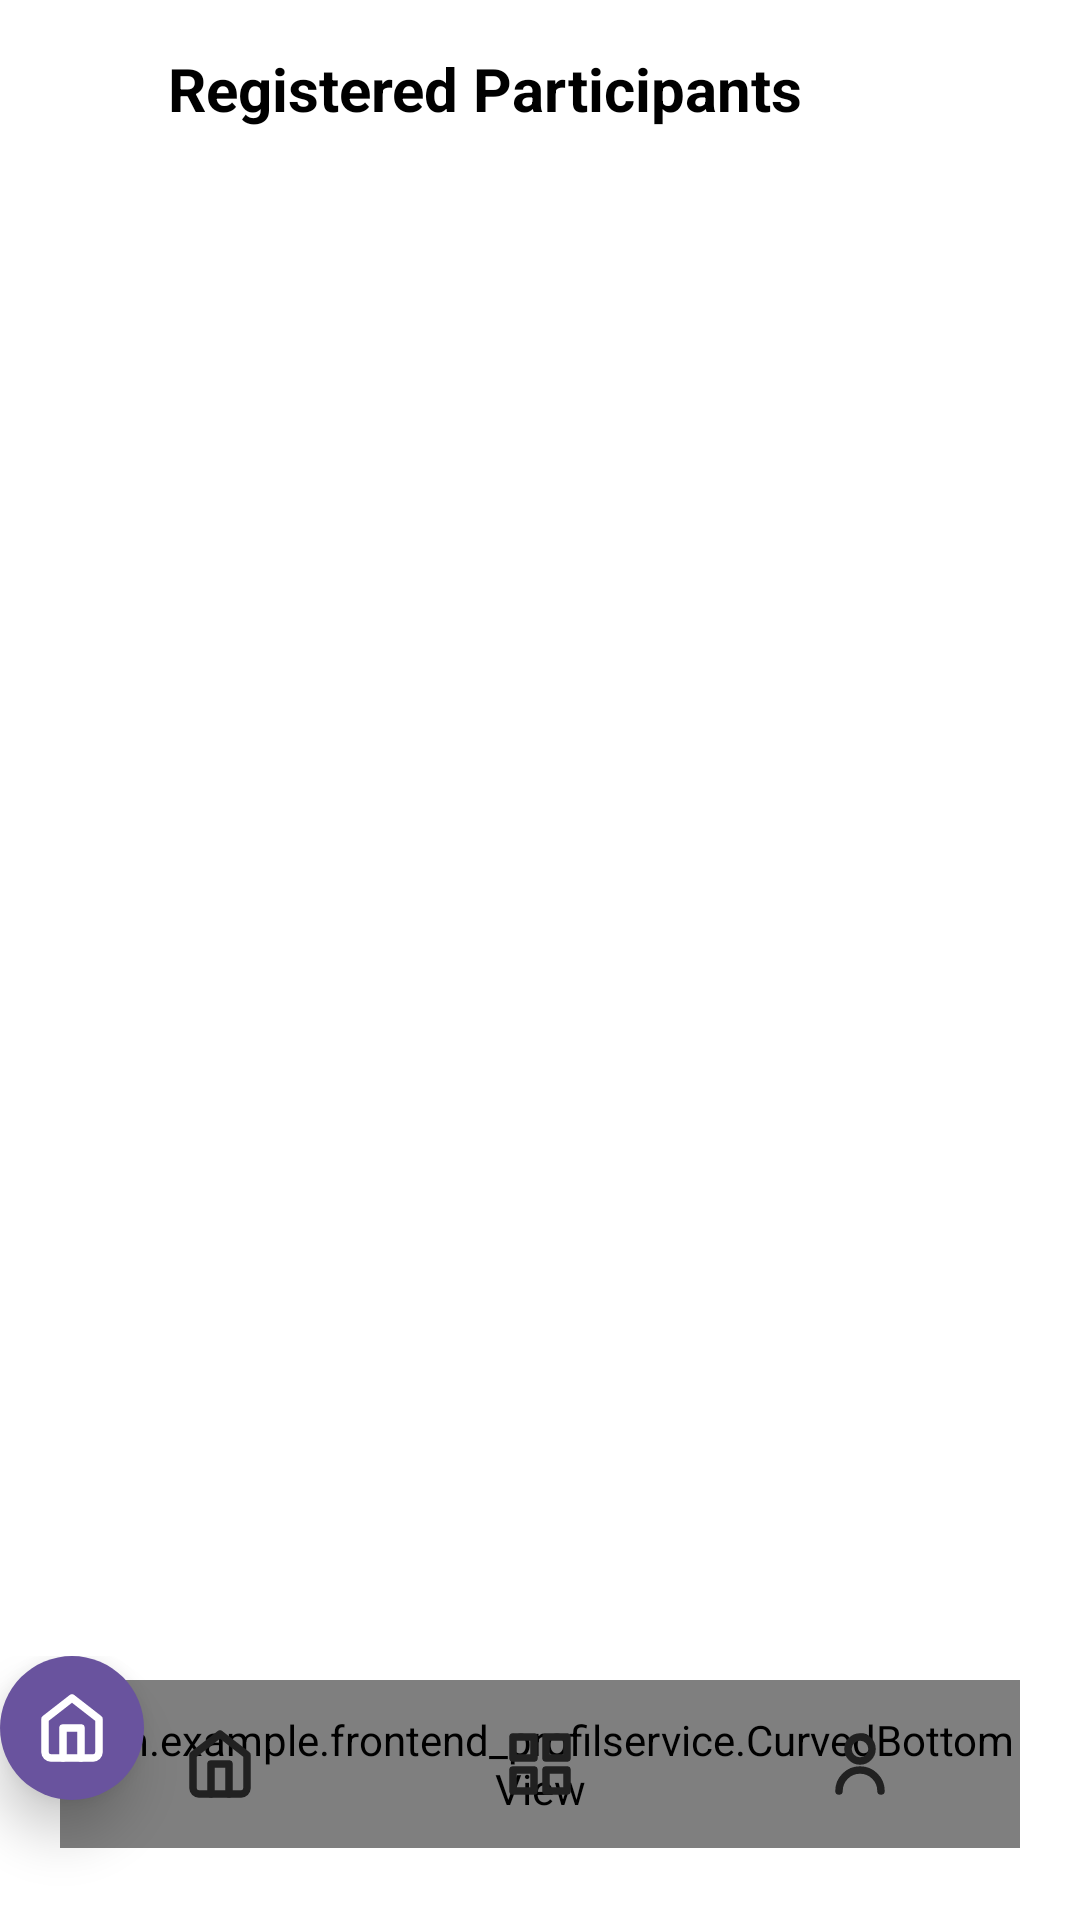

Named icons in this screenshot (1080px x 1920px) and their bounding boxes, [left=x1, top=y1, right=x2, bottom=y2]:
dashboard: [left=504, top=1728, right=576, bottom=1800]
home: [left=41, top=1694, right=103, bottom=1762], [left=184, top=1730, right=256, bottom=1798]
profile: [left=832, top=1728, right=896, bottom=1795]
